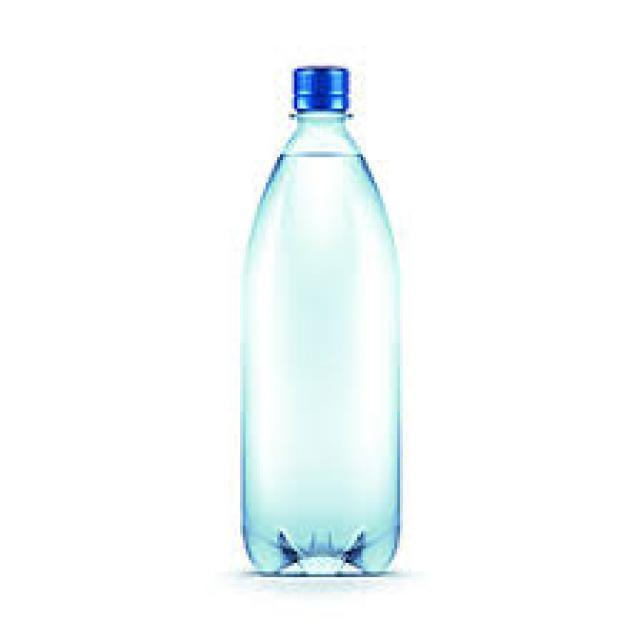Plastic: (245, 57, 402, 576)
